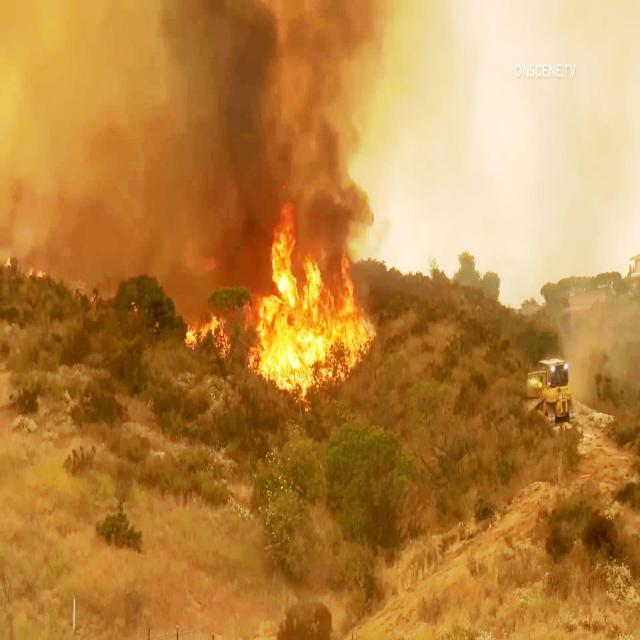Fire: (252, 232, 378, 406), (174, 264, 224, 352)
Smoke: (7, 0, 404, 229)
